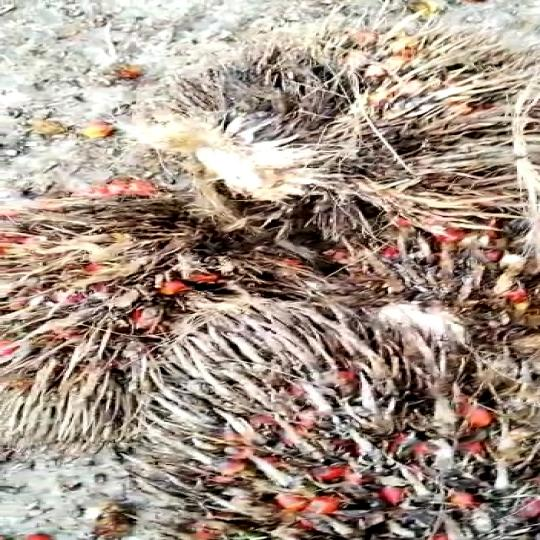terlalu masak: (65, 287, 540, 540), (0, 181, 326, 454), (132, 29, 518, 228)
